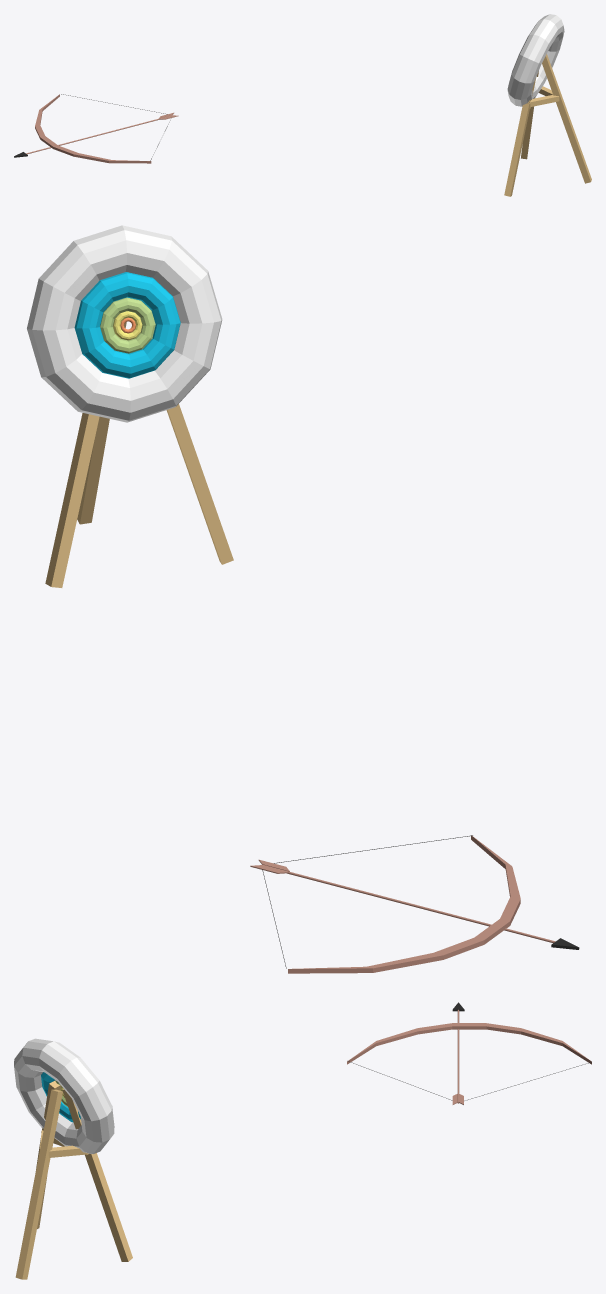
Rendered from BowTarget.gltf.
3 renders of one model, top to bottom at view 1: azimuth 30°, elevation 25°; view 2: azimuth 150°, elevation 25°; view 3: azimuth 270°, elevation 25°, orthographic. The views are drawn at different scales.
Parts seen in each view (by area): view 1: Mesh7 skph9DCNl1 Bow_and_Arrow1 Model, Mesh8 skph9DCNl1 Bow_and_Arrow1 Model, Mesh6 skph9DCNl1 Bow_and_Arrow1 Model, Mesh25 skpHzp3UT1 Bow_and_Arrow1 Model, Mesh5 skph9DCNl1 Bow_and_Arrow1 Model, Mesh24 skpHzp3UT1 Bow_and_Arrow1 Model; view 2: Mesh7 skph9DCNl1 Bow_and_Arrow1 Model, Mesh9 skph9DCNl1 Bow_and_Arrow1 Model, Mesh5 skph9DCNl1 Bow_and_Arrow1 Model, Mesh25 skpHzp3UT1 Bow_and_Arrow1 Model, Mesh6 skph9DCNl1 Bow_and_Arrow1 Model, Mesh1 skph9DCNl1 Bow_and_Arrow1 Model, Mesh8 skph9DCNl1 Bow_and_Arrow1 Model; view 3: Mesh7 skph9DCNl1 Bow_and_Arrow1 Model, Mesh8 skph9DCNl1 Bow_and_Arrow1 Model, Mesh5 skph9DCNl1 Bow_and_Arrow1 Model, Mesh25 skpHzp3UT1 Bow_and_Arrow1 Model.
Part boxes in pixels (bbox=[...]): Mesh7 skph9DCNl1 Bow_and_Arrow1 Model: bbox=[507, 14, 564, 106]; Mesh8 skph9DCNl1 Bow_and_Arrow1 Model: bbox=[542, 54, 591, 183]; Mesh6 skph9DCNl1 Bow_and_Arrow1 Model: bbox=[504, 77, 536, 196]; Mesh25 skpHzp3UT1 Bow_and_Arrow1 Model: bbox=[35, 94, 151, 163]; Mesh5 skph9DCNl1 Bow_and_Arrow1 Model: bbox=[521, 71, 538, 159]; Mesh24 skpHzp3UT1 Bow_and_Arrow1 Model: bbox=[26, 115, 172, 154]; Mesh7 skph9DCNl1 Bow_and_Arrow1 Model: bbox=[27, 225, 222, 422]; Mesh9 skph9DCNl1 Bow_and_Arrow1 Model: bbox=[74, 272, 180, 378]; Mesh5 skph9DCNl1 Bow_and_Arrow1 Model: bbox=[45, 413, 99, 587]; Mesh25 skpHzp3UT1 Bow_and_Arrow1 Model: bbox=[288, 835, 520, 973]; Mesh6 skph9DCNl1 Bow_and_Arrow1 Model: bbox=[166, 404, 233, 564]; Mesh1 skph9DCNl1 Bow_and_Arrow1 Model: bbox=[100, 297, 155, 353]; Mesh8 skph9DCNl1 Bow_and_Arrow1 Model: bbox=[77, 322, 126, 524]; Mesh7 skph9DCNl1 Bow_and_Arrow1 Model: bbox=[14, 1038, 114, 1153]; Mesh8 skph9DCNl1 Bow_and_Arrow1 Model: bbox=[15, 1089, 62, 1279]; Mesh5 skph9DCNl1 Bow_and_Arrow1 Model: bbox=[62, 1089, 132, 1261]; Mesh25 skpHzp3UT1 Bow_and_Arrow1 Model: bbox=[347, 1023, 591, 1064].
Size of what is drawn, in the model's own units: 2481 by 928 by 2238.
